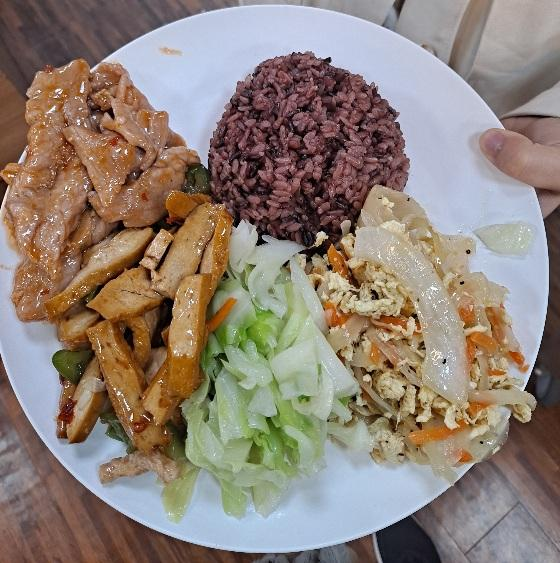big fried chicken leg: (0, 6, 560, 559)
braised fish: (201, 49, 413, 247)
braised fish fillet: (312, 189, 521, 461), (51, 203, 235, 458), (188, 232, 344, 514)
braised pork: (3, 58, 204, 314)
